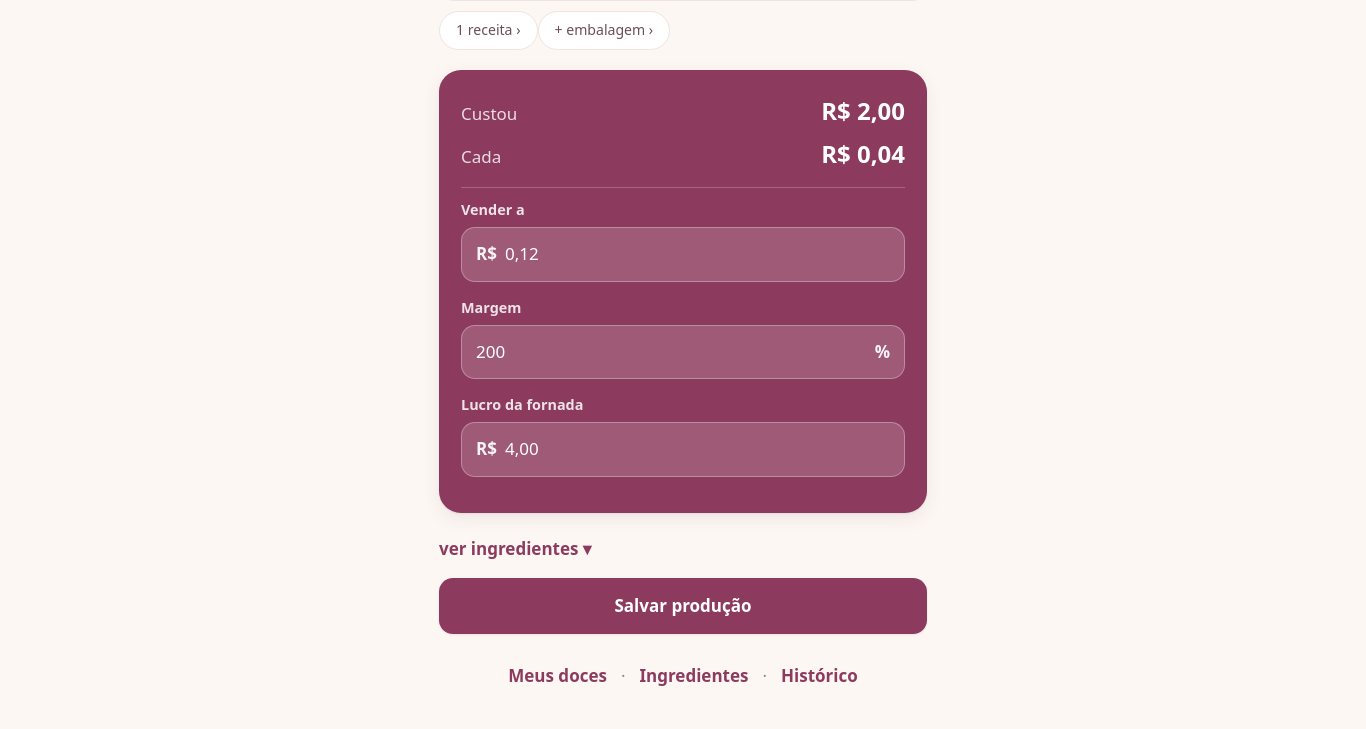
App › cada link do rodapé abre a folha certa
This screenshot has width=1366, height=729.
(page scrolled)
Click the button "Meus doces" at (558, 676), box [504,656,611,697]
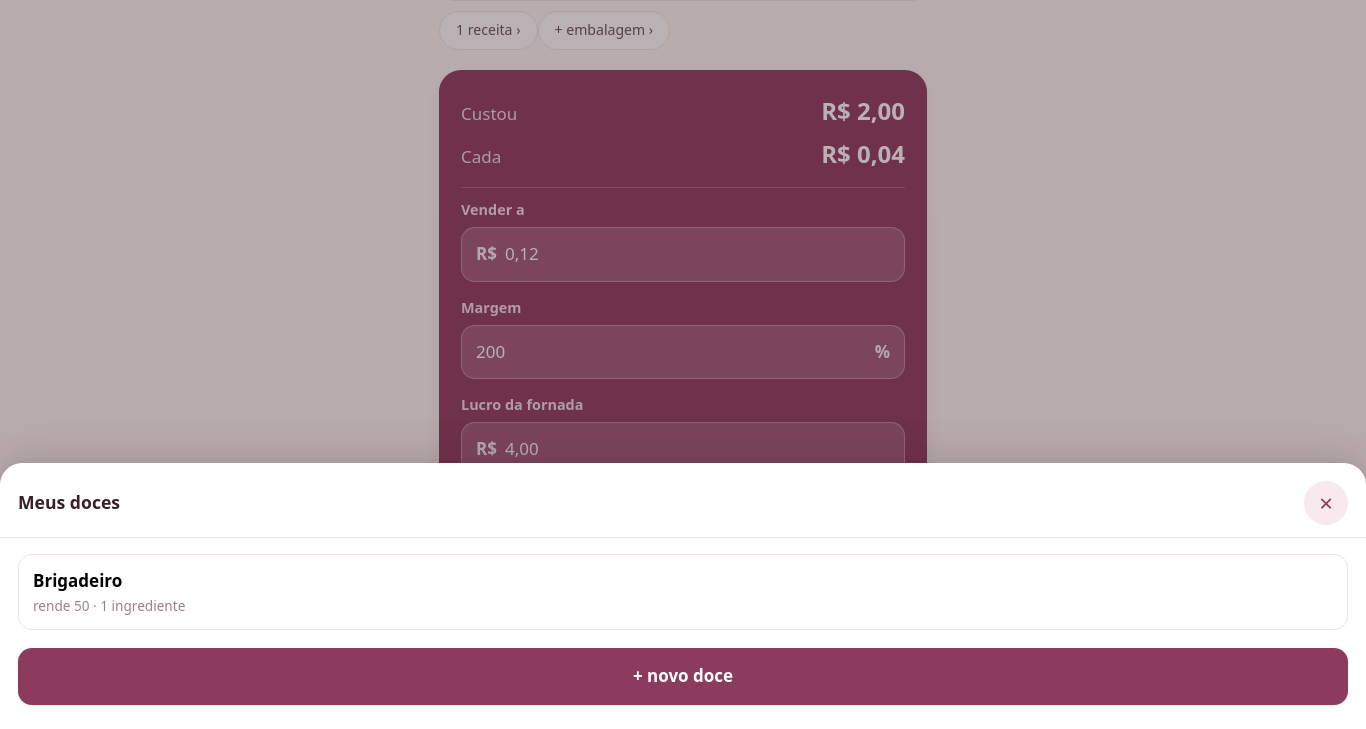
Result: the heading "Meus doces" is shown at [18,490,120,516]
Click the button named "Fechar" at (1326, 503), box [1304,481,1348,525]
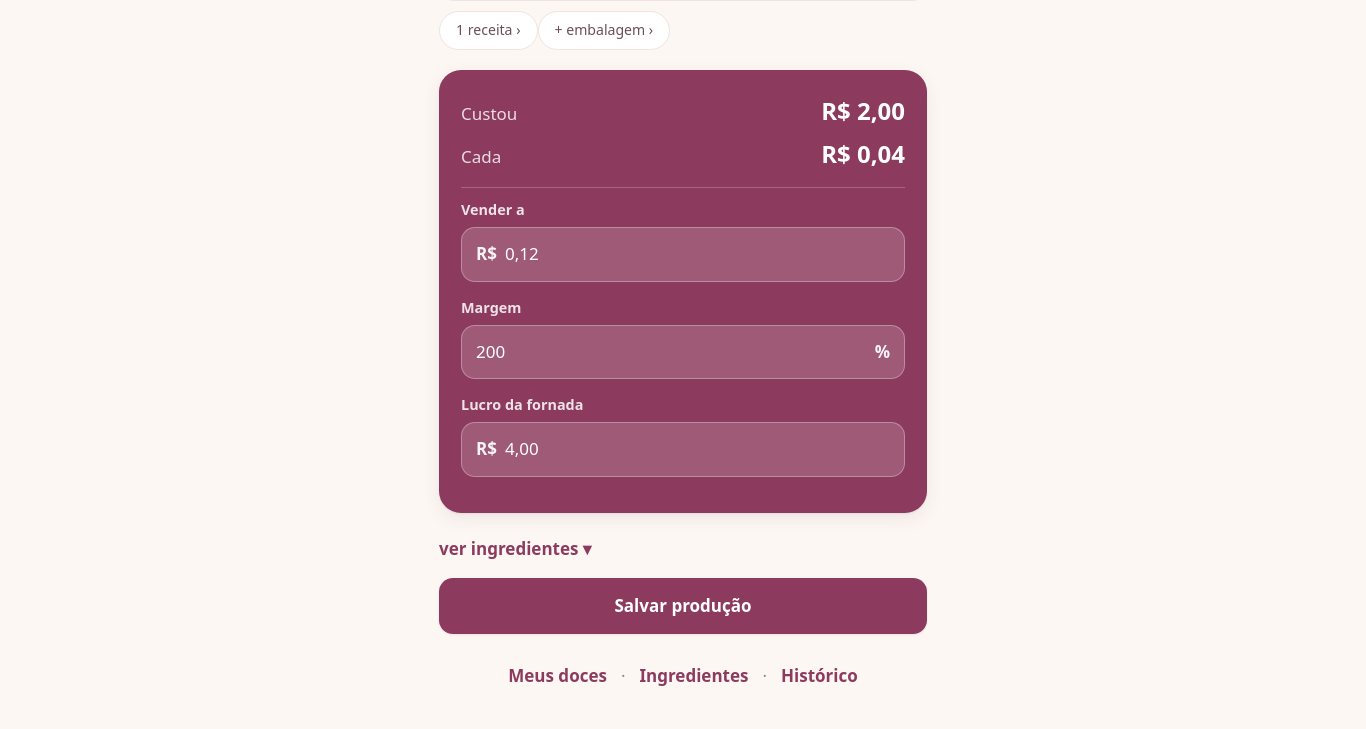
Click the button "Ingredientes" at (694, 676), box [636,656,752,697]
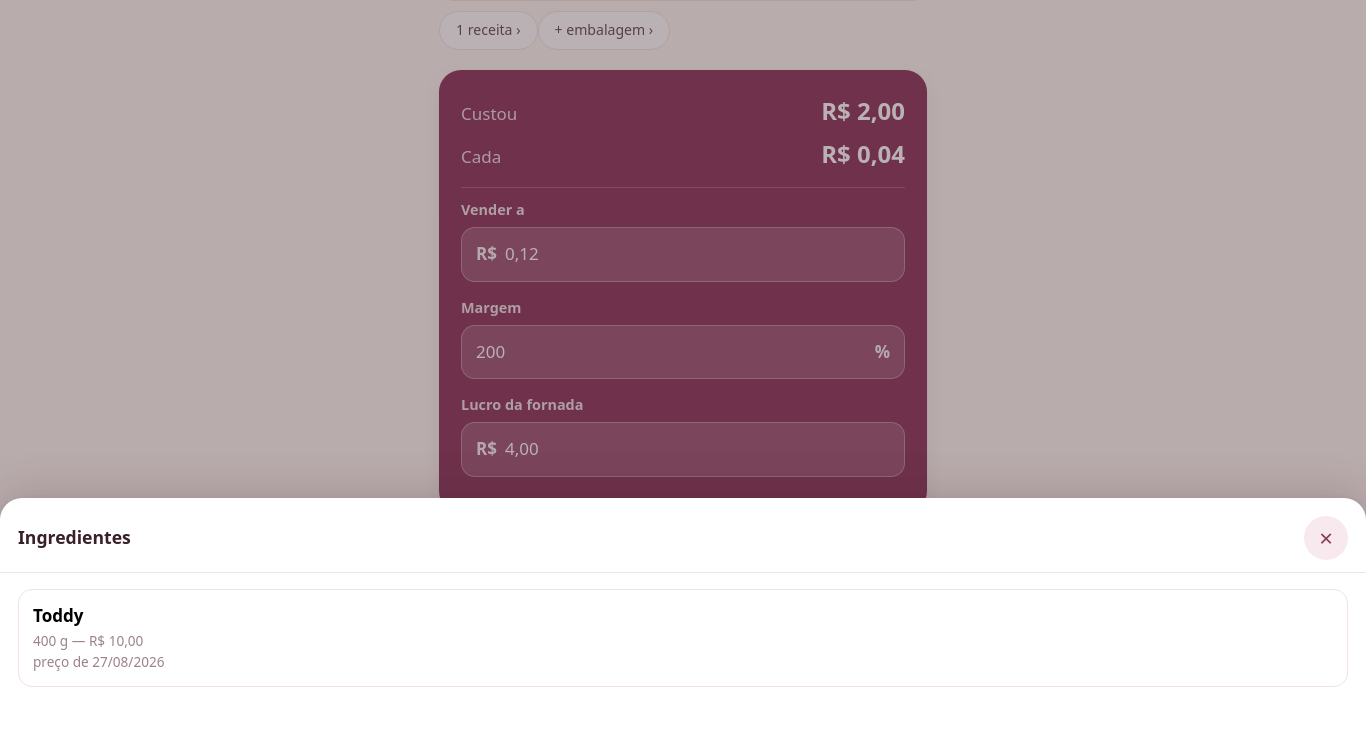
Result: the heading "Ingredientes" is shown at [18,525,131,551]
Click the button named "Fechar" at (1326, 538), box [1304,516,1348,560]
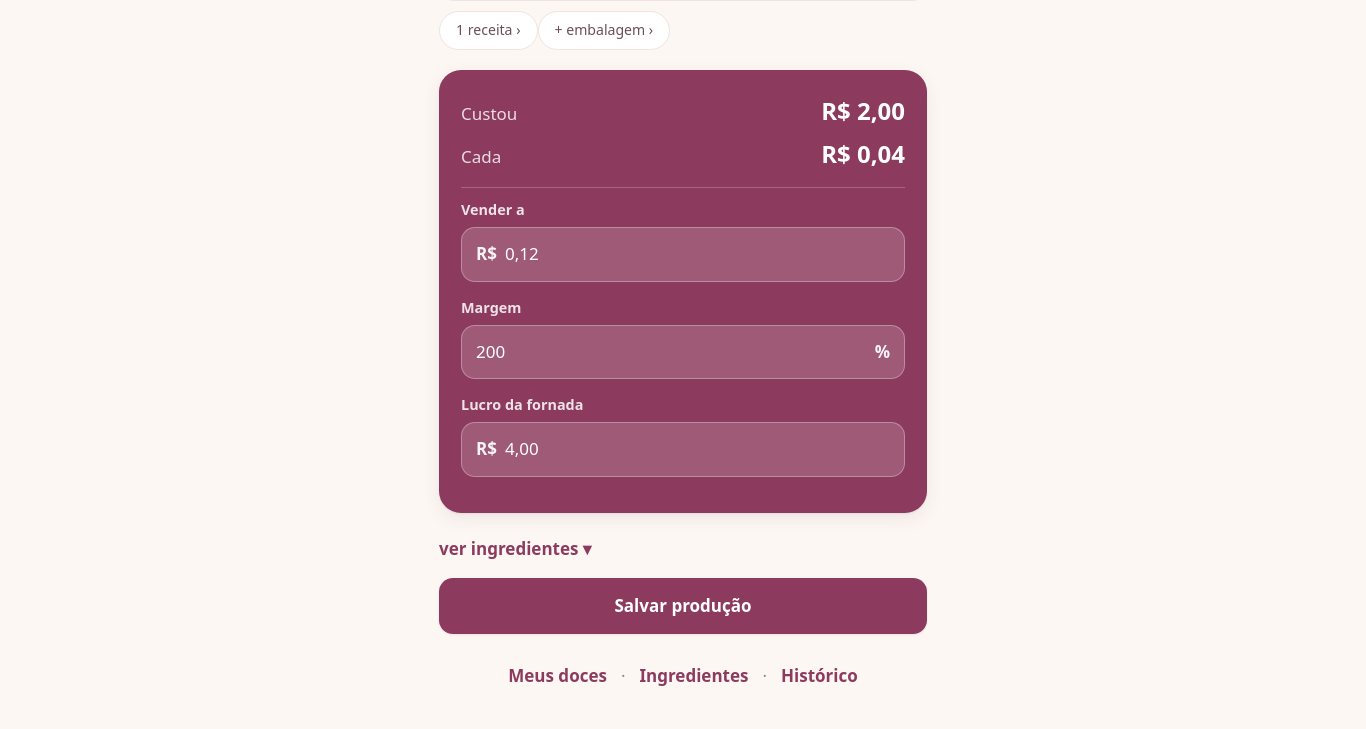
Click the button "Histórico" at (819, 676), box [777,656,862,697]
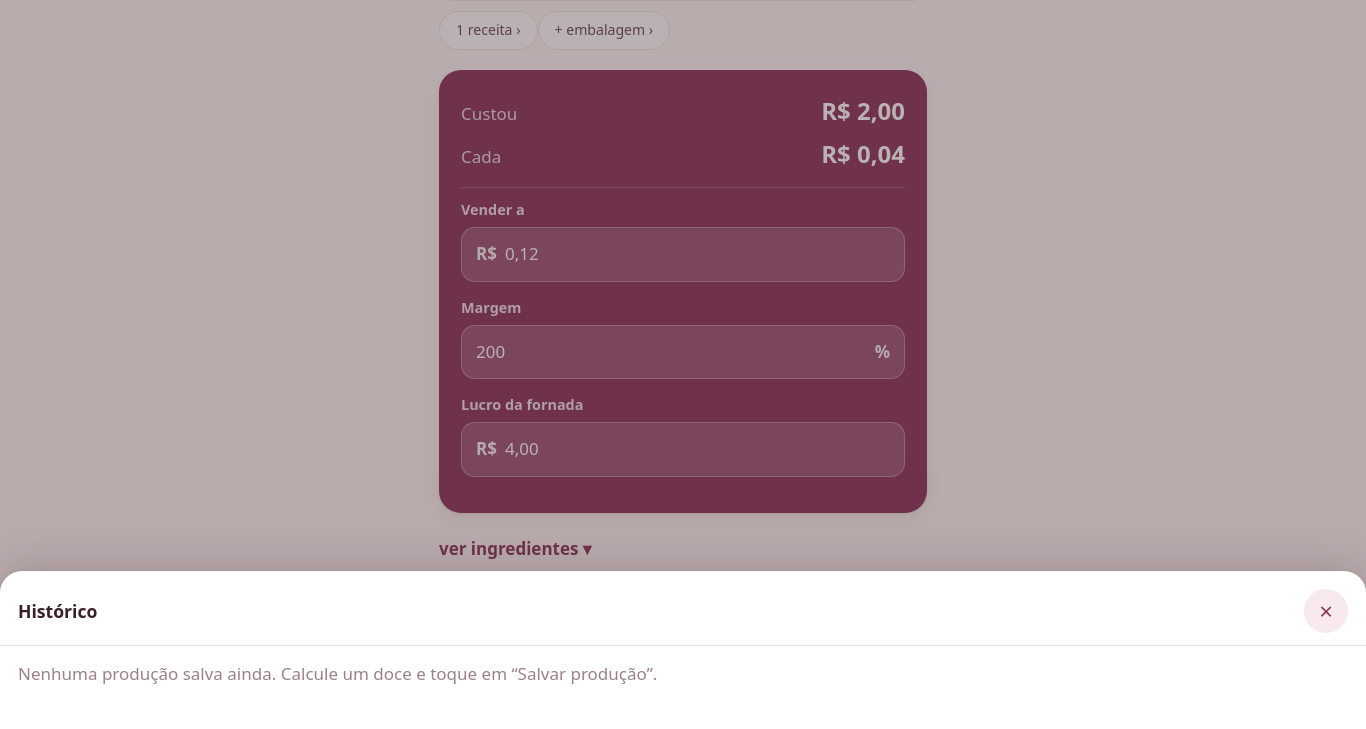
Result: the heading "Histórico" is shown at [18,599,97,624]
